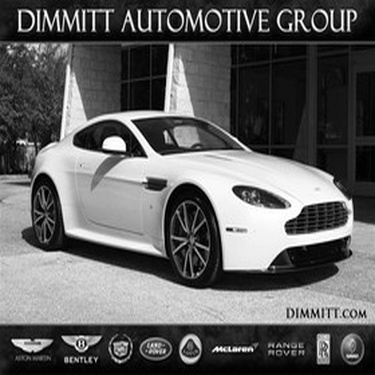car: (23, 97, 362, 292)
